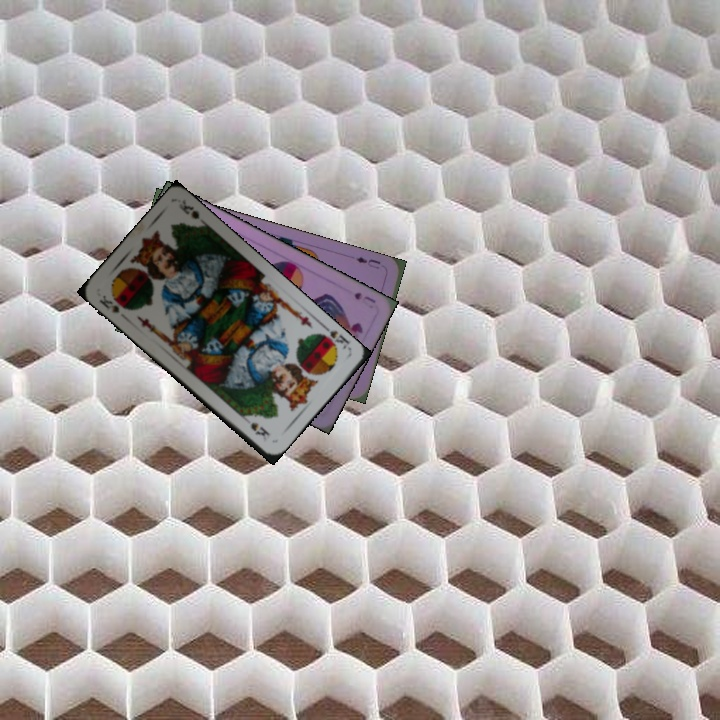EU: (352, 252, 383, 272)
SK: (314, 321, 352, 354), (95, 291, 122, 316)
SU: (350, 288, 379, 310)
